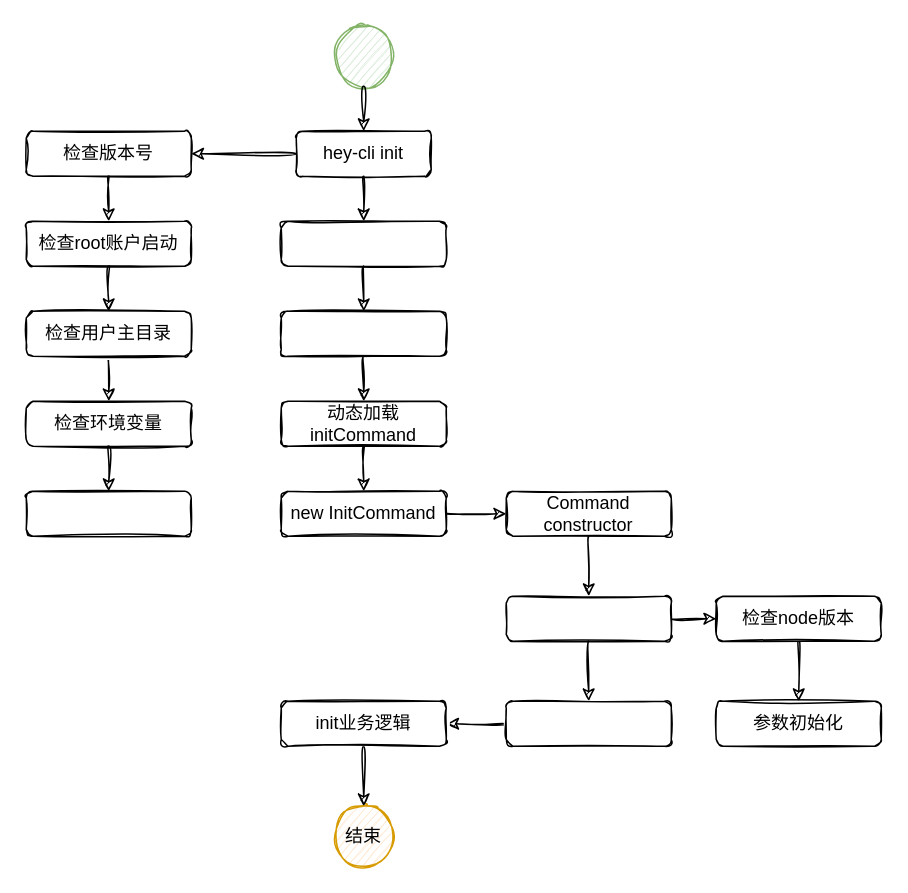
Image size: 908x893. Some labels were removed from this diagram. The centre of each missing label's shape, as x and y in pixels:
commander 脚手架初始化: (363,333)
命令的准备阶段: (588,618)
命令的执行阶段: (588,723)
开始: (363,55)
检查cli最新版本: (108,513)
脚手架启动阶段: (363,243)
